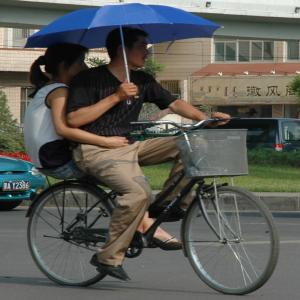Vehicle-registration-plate: (3, 181, 31, 193)
